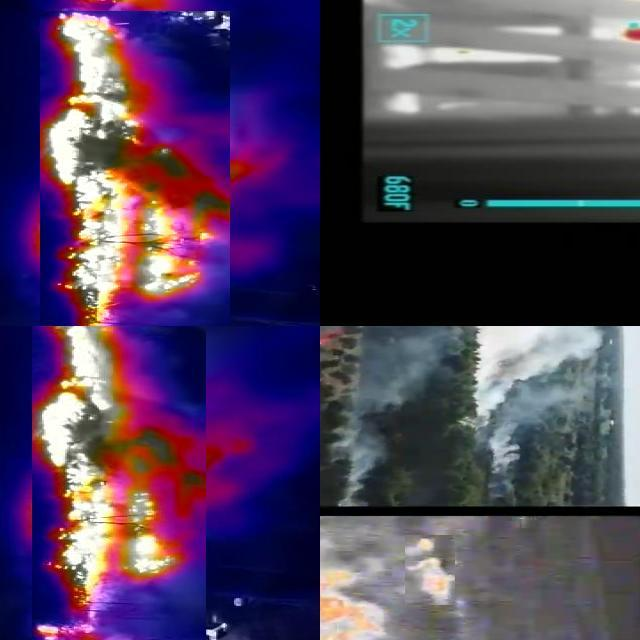fire: (39, 12, 229, 327), (32, 327, 206, 640), (405, 537, 455, 607), (321, 327, 352, 349)
